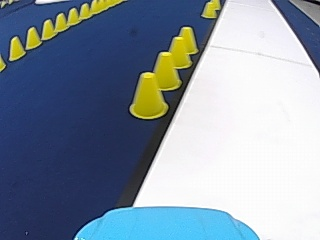cone: (128, 71, 167, 119), (150, 51, 180, 90), (166, 35, 190, 68), (177, 25, 198, 55), (8, 35, 25, 60), (24, 26, 40, 49), (40, 18, 54, 39), (200, 1, 216, 18), (53, 12, 66, 31), (66, 6, 79, 24), (78, 3, 90, 19)
